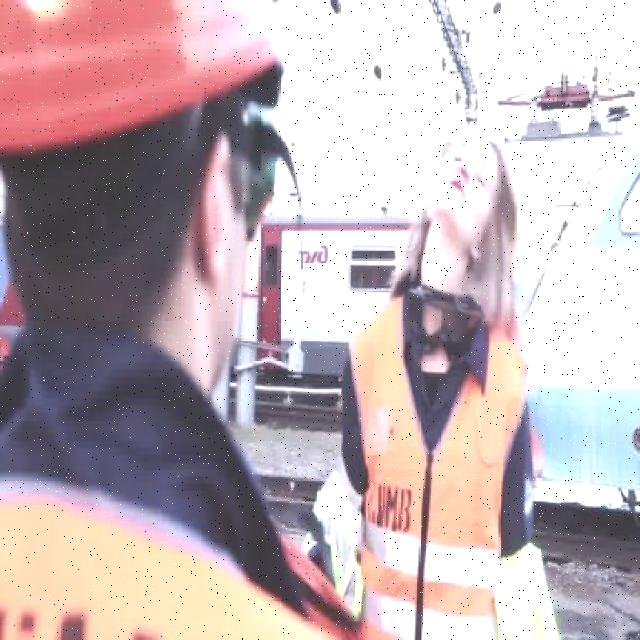Mask: (348, 291, 524, 638)
